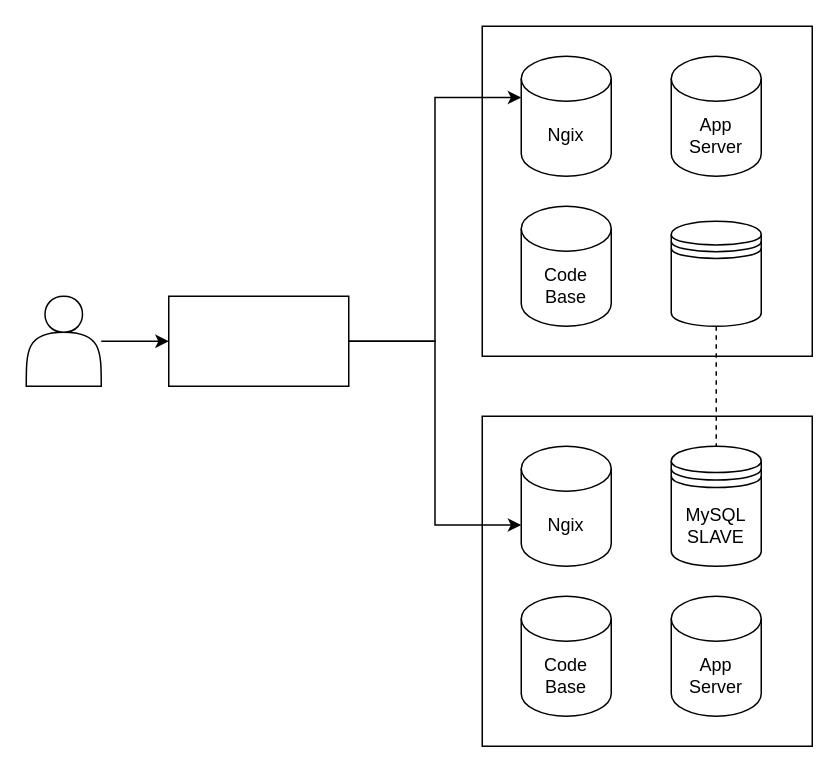
The diagram is 839 pixels wide and 773 high, and some of its shapes have lost their labels. The centre of each missing label's shape, as x and y in pixels:
"Load Balancer" goes at (258,340).
"MySQL MASTER" goes at (715,273).
